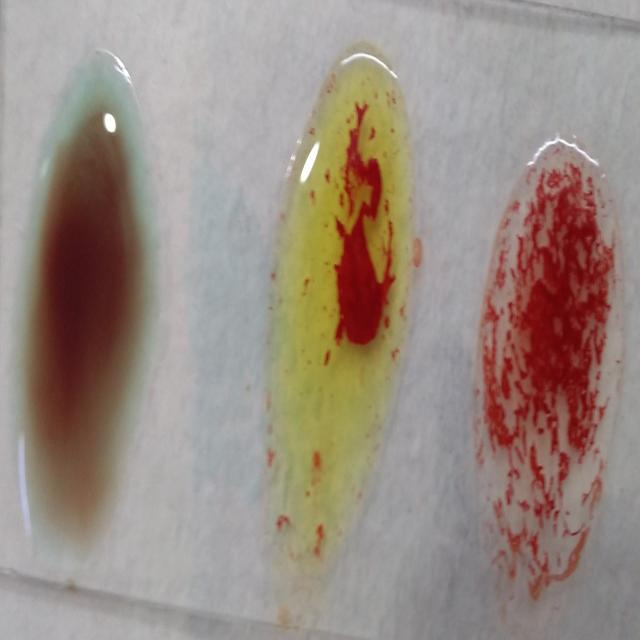B: (277, 40, 413, 586)
D: (472, 137, 626, 602)
